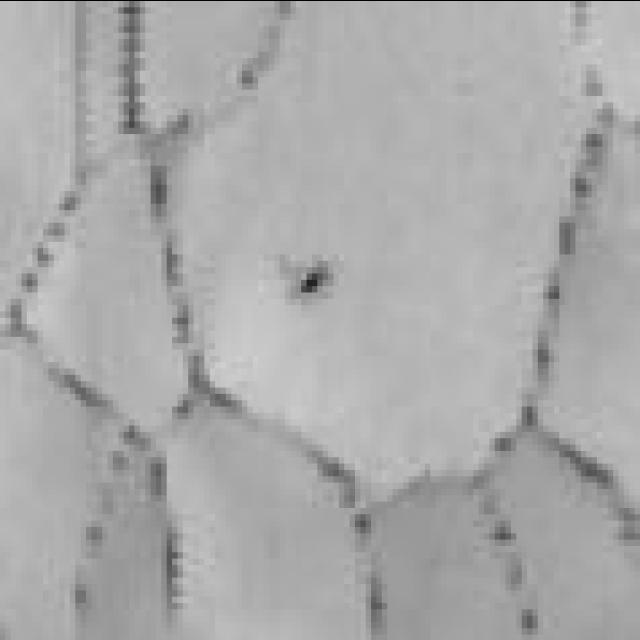good_void: (298, 262, 334, 300)
